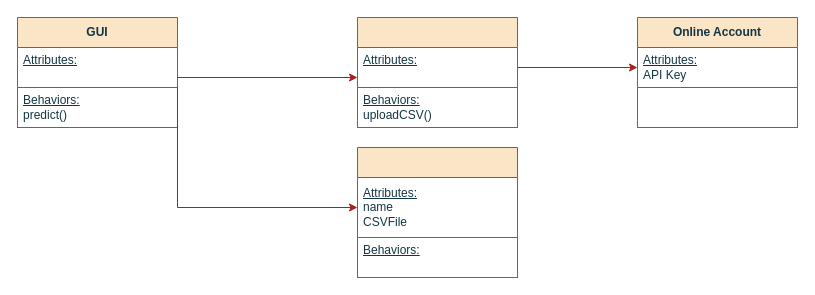
Image size: 815x295. Some labels were removed from this diagram. Each missing label, with the box of its shape:
Behaviors: obtainStockInfo(): (636, 86, 798, 128)
Stock: (356, 146, 518, 278)
User: (356, 16, 518, 128)
